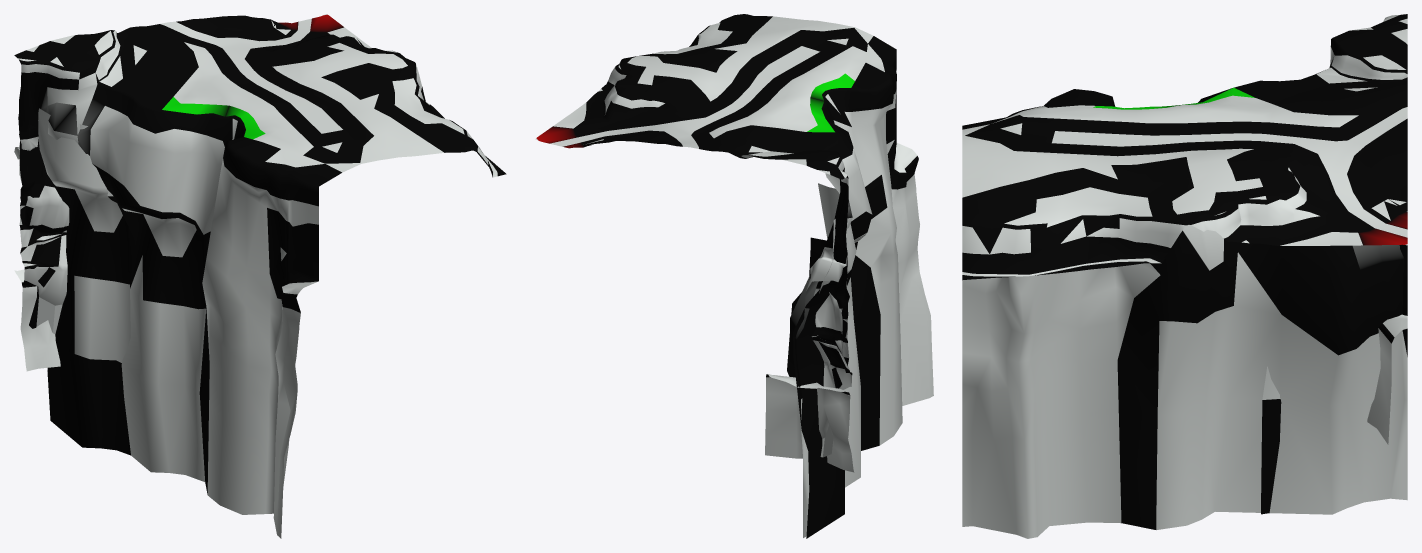
3 views of the same model, side by side, from view 1: azimuth 30°, elevation 25°; view 2: azimuth 150°, elevation 25°; view 3: azimuth 270°, elevation 25° (orthographic). The views are drawn at different scales.
Visible parts, largest first — view 1: G:\FFXIV-MapTools\exports\k5f1\bg\ex4\03_kld_k5\fld\k5f1\bgp (×12); view 2: G:\FFXIV-MapTools\exports\k5f1\bg\ex4\03_kld_k5\fld\k5f1\bgp (×12); view 3: G:\FFXIV-MapTools\exports\k5f1\bg\ex4\03_kld_k5\fld\k5f1\bgp (×14).
Boxes of the visible parts, x1=… form: G:\FFXIV-MapTools\exports\k5f1\bg\ex4\03_kld_k5\fld\k5f1\bgp (×12): x1=14, y1=14, x2=488, y2=538; G:\FFXIV-MapTools\exports\k5f1\bg\ex4\03_kld_k5\fld\k5f1\bgp (×12): x1=535, y1=14, x2=933, y2=538; G:\FFXIV-MapTools\exports\k5f1\bg\ex4\03_kld_k5\fld\k5f1\bgp (×14): x1=962, y1=14, x2=1407, y2=538.
Bounding box in the file's own units: 128 × 149 × 128.
